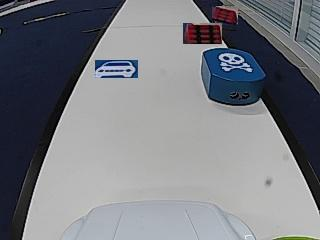danger: (219, 52, 251, 72)
